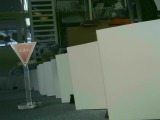stop: (10, 42, 36, 66)
